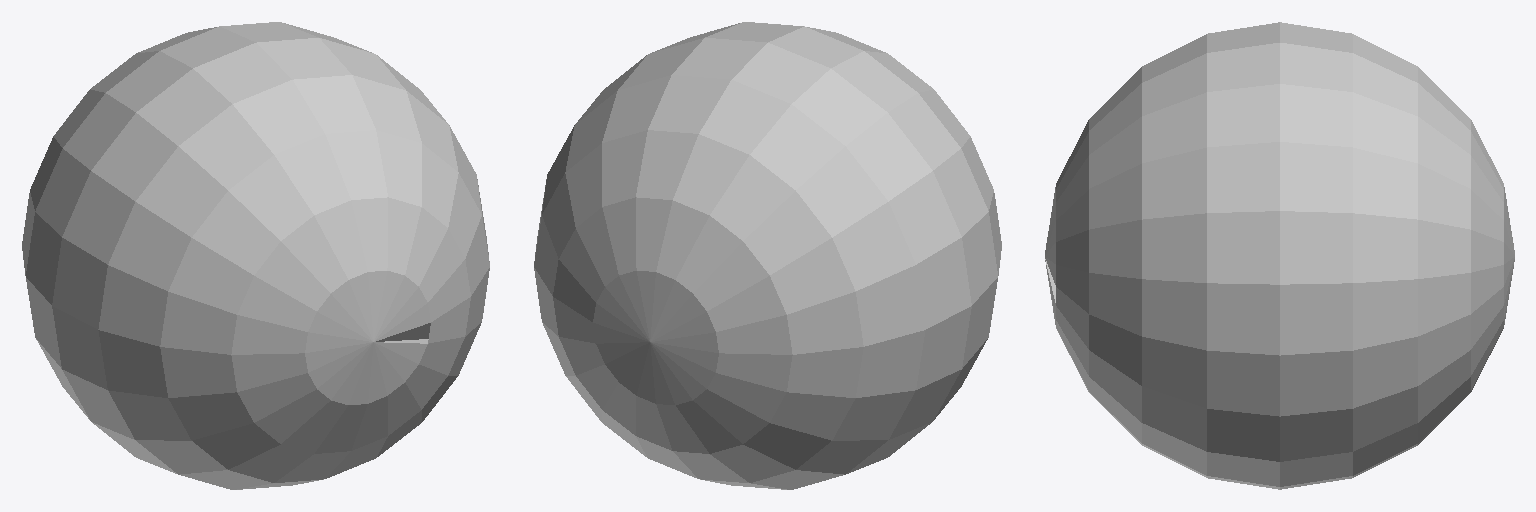
Rendered from input5.obj.
The picture shows the model from 3 angles: view 1: azimuth 30°, elevation 25°; view 2: azimuth 150°, elevation 25°; view 3: azimuth 270°, elevation 25°; orthographic projection.
Visible parts, largest first — view 1: Sphera; view 2: Sphera; view 3: Sphera.
Boxes of the visible parts, box(x1,y1,x2,y2) form: Sphera: box(22, 22, 489, 489); Sphera: box(534, 22, 1001, 489); Sphera: box(1045, 22, 1514, 489).
Bounding box in the file's own units: 200 × 200 × 200.